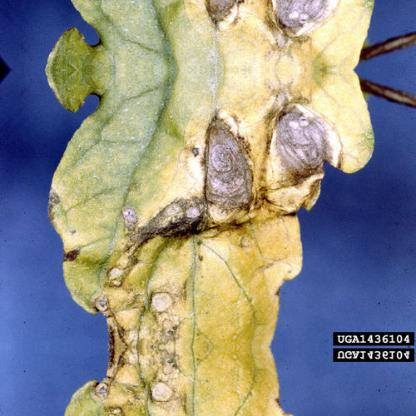Early-Blight: (40, 69, 382, 331), (40, 0, 381, 69), (40, 361, 381, 416)
